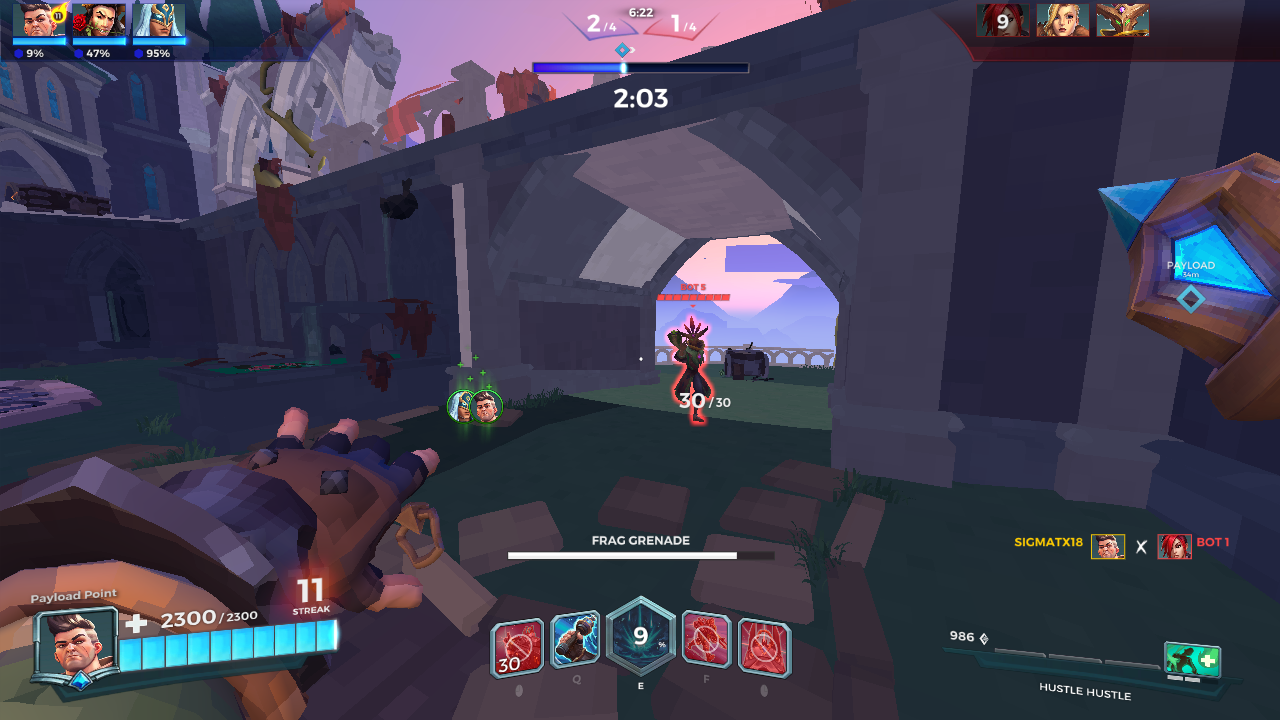model: (664, 311, 717, 427)
